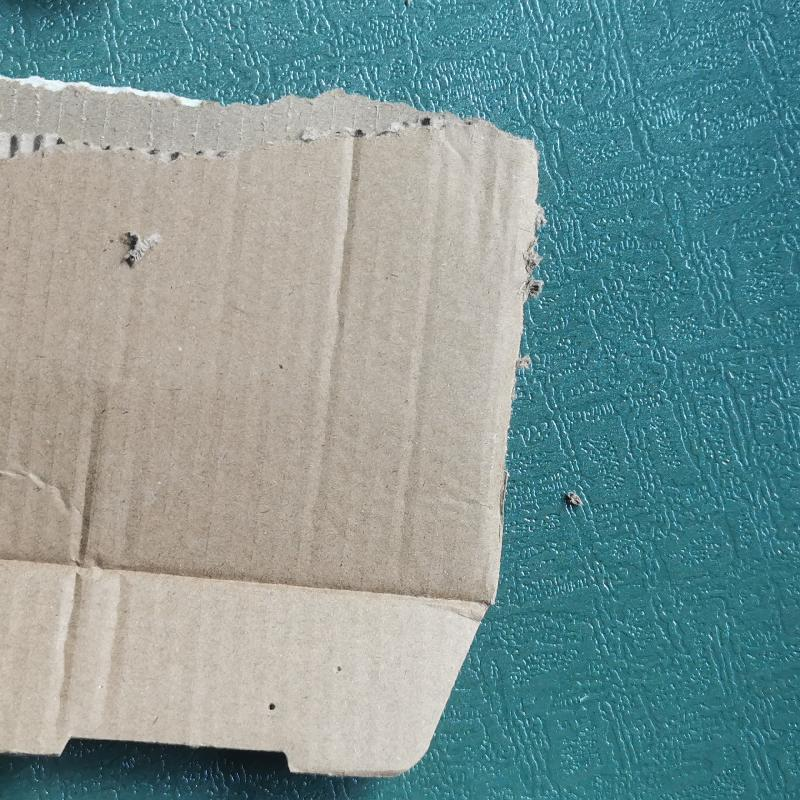boxes: (0, 47, 545, 787)
